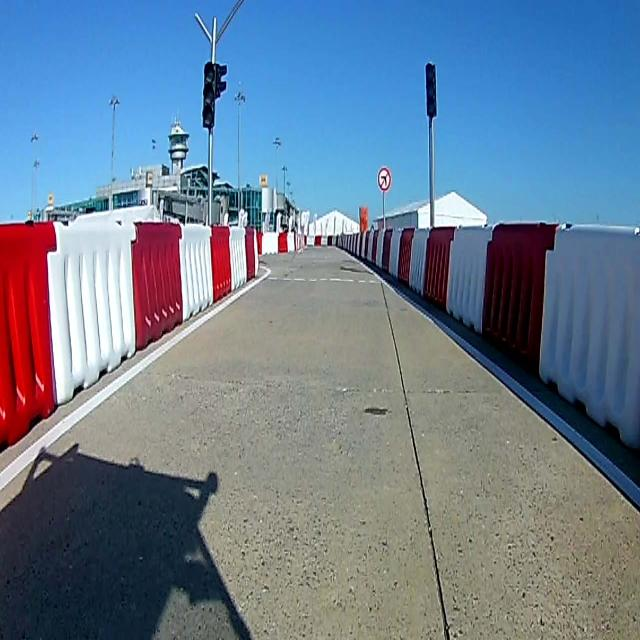soladonulmez: (378, 168, 392, 190)
